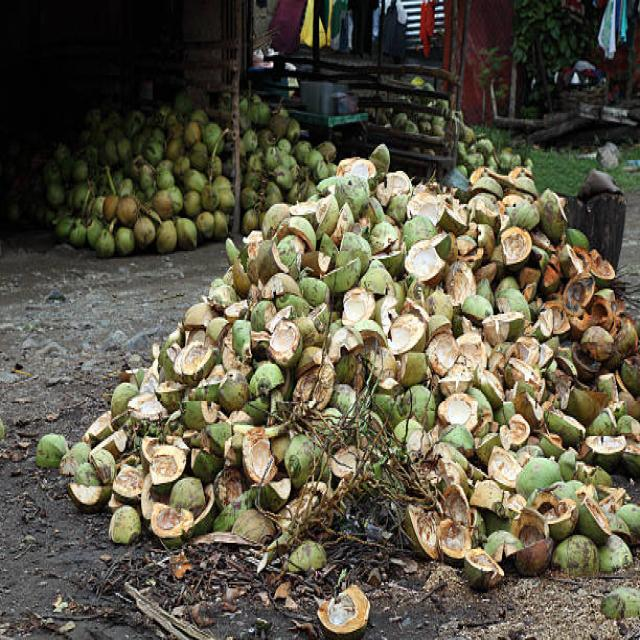trash: (61, 162, 579, 563)
